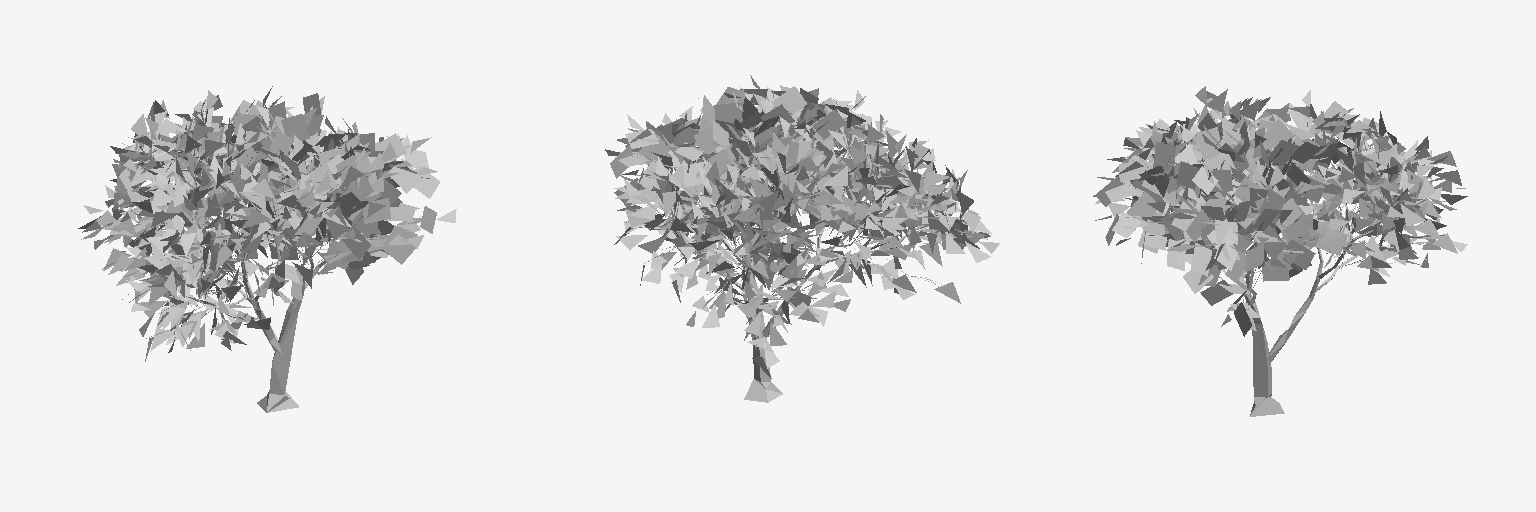
The model's file is reduce0.5.obj.
3 views of the same model, side by side, from view 1: azimuth 30°, elevation 25°; view 2: azimuth 150°, elevation 25°; view 3: azimuth 270°, elevation 25° (orthographic).
Parts seen in each view (by area): view 1: 11_Hornbeam_Tree.001_LOD1; view 2: 11_Hornbeam_Tree.001_LOD1; view 3: 11_Hornbeam_Tree.001_LOD1.
Boxes of the visible parts, <box> form: 11_Hornbeam_Tree.001_LOD1: <box>78,86,456,412</box>; 11_Hornbeam_Tree.001_LOD1: <box>605,75,999,402</box>; 11_Hornbeam_Tree.001_LOD1: <box>1093,86,1467,416</box>.
Bounding box in the file's own units: 360 × 286 × 332.